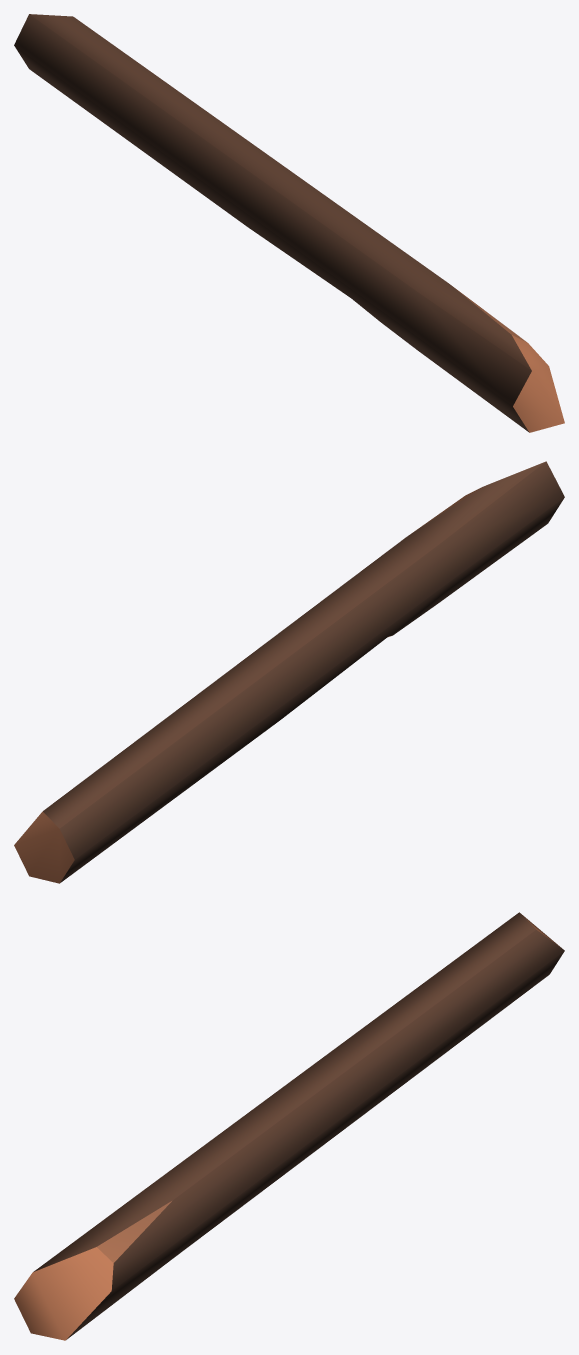
The model's file is Tree_Log_2A.fbx.
3 views of the same model, one above another, from view 1: azimuth 30°, elevation 25°; view 2: azimuth 150°, elevation 25°; view 3: azimuth 330°, elevation 25° (orthographic).
Parts seen in each view (by area): view 1: Tree_Log_2A; view 2: Tree_Log_2A; view 3: Tree_Log_2A.
Part boxes in pixels (bbox=[...]): Tree_Log_2A: bbox=[14, 14, 564, 432]; Tree_Log_2A: bbox=[14, 461, 564, 883]; Tree_Log_2A: bbox=[14, 912, 564, 1340].
Size of the model in its own units: 0.3169 by 0.2694 by 3.82.
